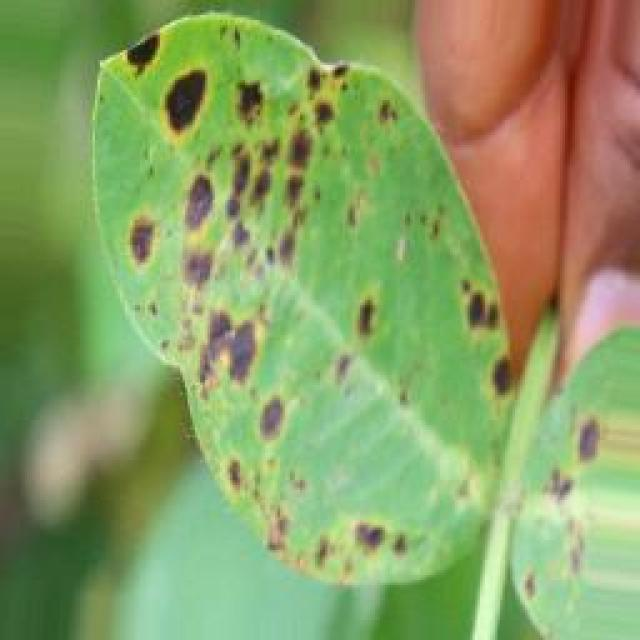Yellowish: (57, 0, 640, 577)
